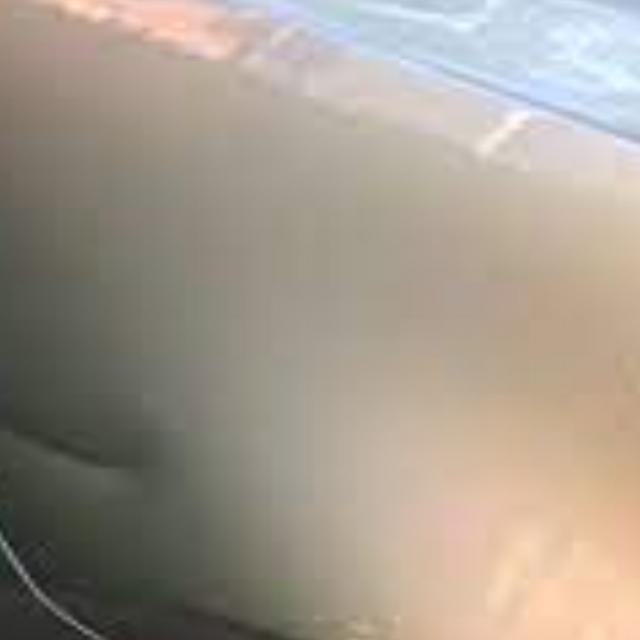dents: (1, 387, 189, 504)
